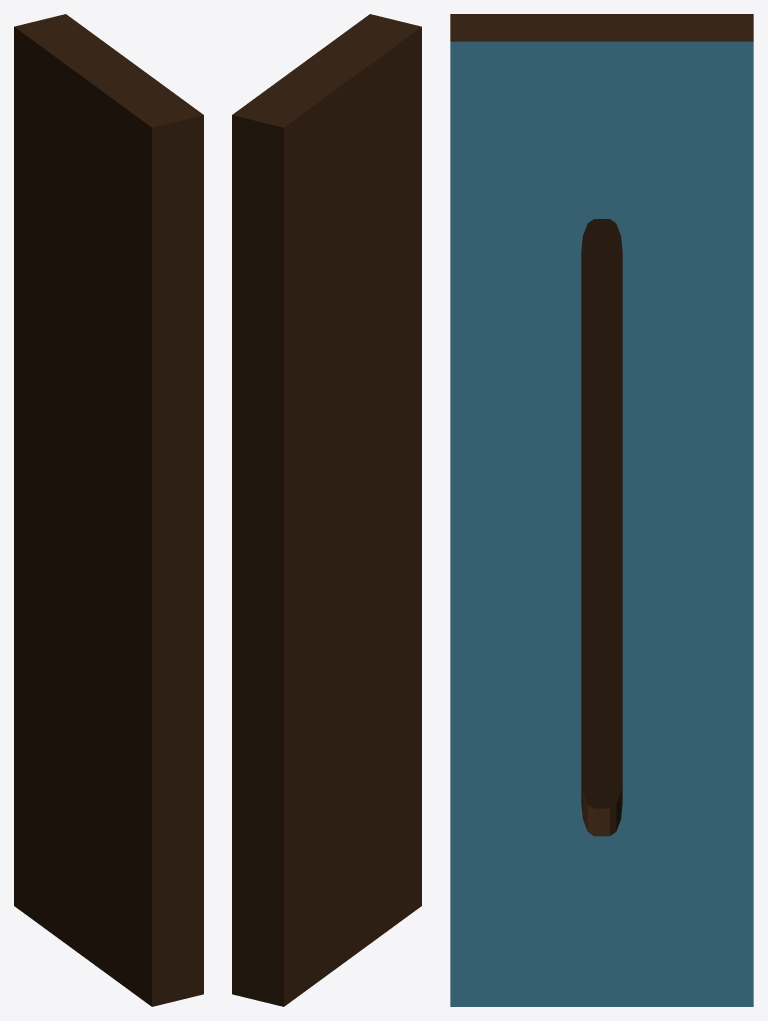
File: 1palanca-base.glb
3 views of the same model, side by side, from view 1: azimuth 30°, elevation 25°; view 2: azimuth 150°, elevation 25°; view 3: azimuth 270°, elevation 25° (orthographic). The views are drawn at different scales.
Visible parts, largest first — view 1: PALANCA-BASE; view 2: PALANCA-BASE; view 3: PALANCA-BASE.
Part boxes in pixels (x1,y1,x2,y2): PALANCA-BASE: (14,14,203,1006); PALANCA-BASE: (232,14,421,1006); PALANCA-BASE: (450,14,753,1006).
Bounding box in the file's own units: 0.0632 × 1.02 × 0.2911.
